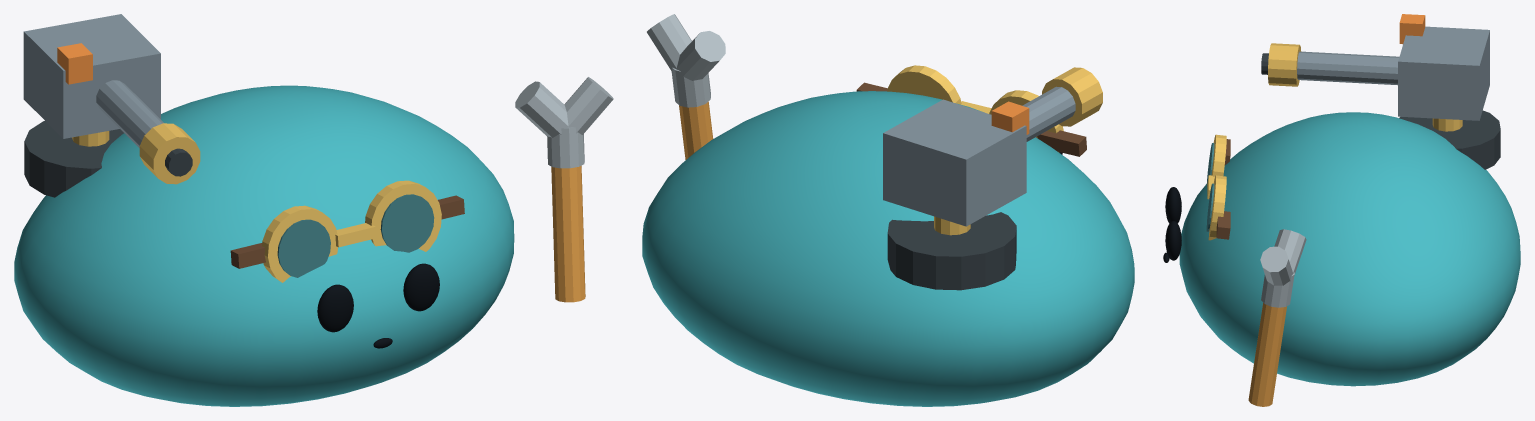
Rendered from engineer-slime.glb.
3 renders of one model, left to right at view 1: azimuth 30°, elevation 25°; view 2: azimuth 150°, elevation 25°; view 3: azimuth 270°, elevation 25°, orthographic. The views are drawn at different scales.
Parts seen in each view (by area): view 1: Body, EngineerTurret_Head, Engineer_WrenchHandle, EngineerTurret_Base, Engineer_GoggleLens_R, Engineer_GoggleLens_L, EngineerTurret_Barrel, EngineerTurret_MuzzleRing, Engineer_GoggleRim_L, Engineer_GoggleRim_R, Engineer_WrenchJawL, Engineer_WrenchJawR (+7 smaller); view 2: Body, EngineerTurret_Head, EngineerTurret_Base, EngineerTurret_MuzzleRing, EngineerTurret_Barrel, Engineer_GoggleRim_R, Engineer_WrenchJawL, Engineer_WrenchJawR, Engineer_WrenchHandle, Engineer_WrenchNeck, EngineerTurret_Sight, Engineer_GoggleStrapL (+2 smaller); view 3: Body, EngineerTurret_Head, EngineerTurret_Barrel, Engineer_WrenchHandle, EngineerTurret_Base, EngineerTurret_MuzzleRing, Engineer_WrenchJawR, Engineer_WrenchJawL, Engineer_WrenchNeck, Engineer_GoggleRim_R, EngineerTurret_Sight, Eye_R (+4 smaller).
Part boxes in pixels (bbox=[...]): Body: bbox=[14, 85, 514, 406]; EngineerTurret_Head: bbox=[23, 14, 160, 138]; Engineer_WrenchHandle: bbox=[551, 165, 585, 302]; EngineerTurret_Base: bbox=[24, 121, 123, 197]; Engineer_GoggleLens_R: bbox=[380, 194, 434, 252]; Engineer_GoggleLens_L: bbox=[277, 219, 330, 277]; EngineerTurret_Barrel: bbox=[96, 80, 163, 147]; EngineerTurret_MuzzleRing: bbox=[139, 123, 200, 184]; Engineer_GoggleRim_L: bbox=[262, 205, 337, 282]; Engineer_GoggleRim_R: bbox=[365, 180, 441, 251]; Engineer_WrenchJawL: bbox=[515, 81, 569, 137]; Engineer_WrenchJawR: bbox=[564, 77, 613, 134]; Body: bbox=[642, 91, 1134, 406]; EngineerTurret_Head: bbox=[883, 99, 1026, 226]; EngineerTurret_Base: bbox=[887, 212, 1016, 290]; EngineerTurret_MuzzleRing: bbox=[1042, 67, 1102, 126]; EngineerTurret_Barrel: bbox=[1022, 86, 1075, 141]; Engineer_GoggleRim_R: bbox=[887, 65, 961, 104]; Engineer_WrenchJawL: bbox=[676, 31, 725, 80]; Engineer_WrenchJawR: bbox=[647, 14, 691, 72]; Engineer_WrenchHandle: bbox=[679, 101, 713, 159]; Engineer_WrenchNeck: bbox=[671, 67, 710, 107]; EngineerTurret_Sight: bbox=[991, 101, 1029, 134]; Engineer_GoggleStrapL: bbox=[1037, 130, 1086, 156]; Body: bbox=[1179, 112, 1520, 386]; EngineerTurret_Head: bbox=[1398, 26, 1489, 120]; EngineerTurret_Barrel: bbox=[1297, 51, 1399, 85]; Engineer_WrenchHandle: bbox=[1248, 303, 1286, 406]; EngineerTurret_Base: bbox=[1399, 110, 1500, 169]; EngineerTurret_MuzzleRing: bbox=[1268, 43, 1301, 86]; Engineer_WrenchJawR: bbox=[1260, 246, 1292, 285]; Engineer_WrenchJawL: bbox=[1274, 229, 1306, 275]; Engineer_WrenchNeck: bbox=[1261, 272, 1294, 307]; Engineer_GoggleRim_R: bbox=[1208, 175, 1226, 240]; EngineerTurret_Sight: bbox=[1399, 14, 1425, 44]; Eye_R: bbox=[1165, 221, 1181, 260].
Bounding box in the file's own units: 2.71 × 1.53 × 2.
